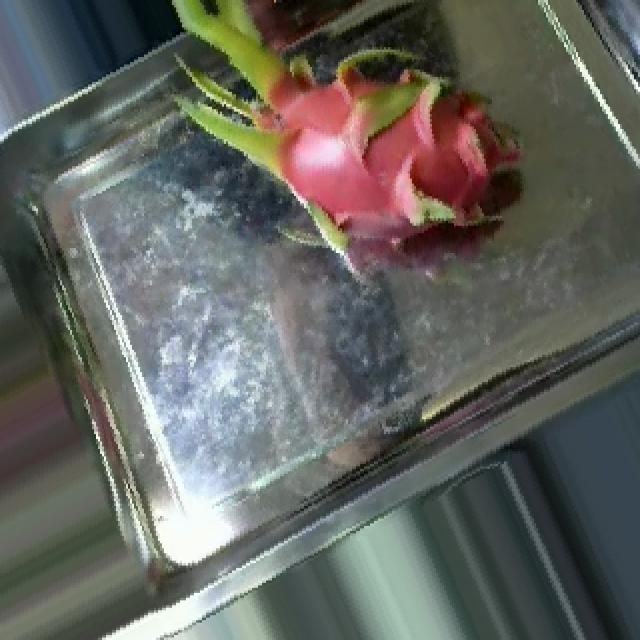fruit: (120, 0, 552, 360)
